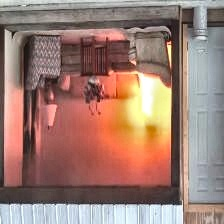fire: (130, 83, 168, 134)
